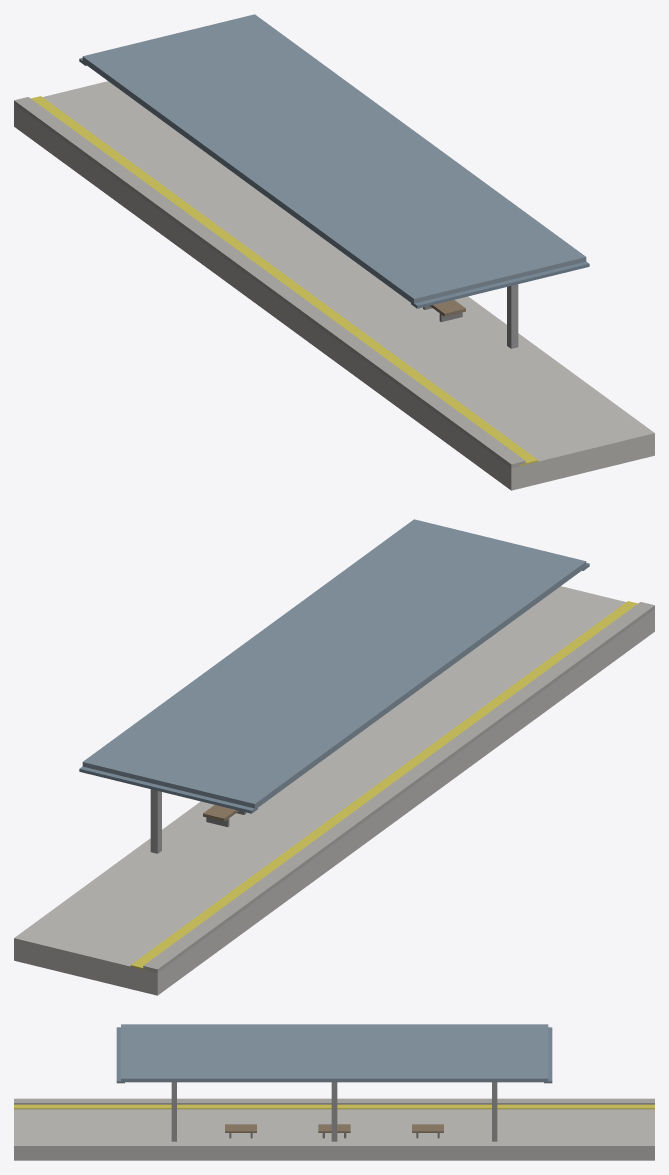
Rendered from station-platform-covered.glb.
3 views of the same model, one above another, from view 1: azimuth 30°, elevation 25°; view 2: azimuth 150°, elevation 25°; view 3: azimuth 270°, elevation 25° (orthographic). The views are drawn at different scales.
Visible parts, largest first — view 1: station-platform-covered; view 2: station-platform-covered; view 3: station-platform-covered.
Part boxes in pixels (bbox=[...]): station-platform-covered: bbox=[14, 14, 654, 490]; station-platform-covered: bbox=[14, 519, 654, 995]; station-platform-covered: bbox=[14, 1024, 654, 1160].
Size of the model in its own units: 4.8 by 3.58 by 24.
